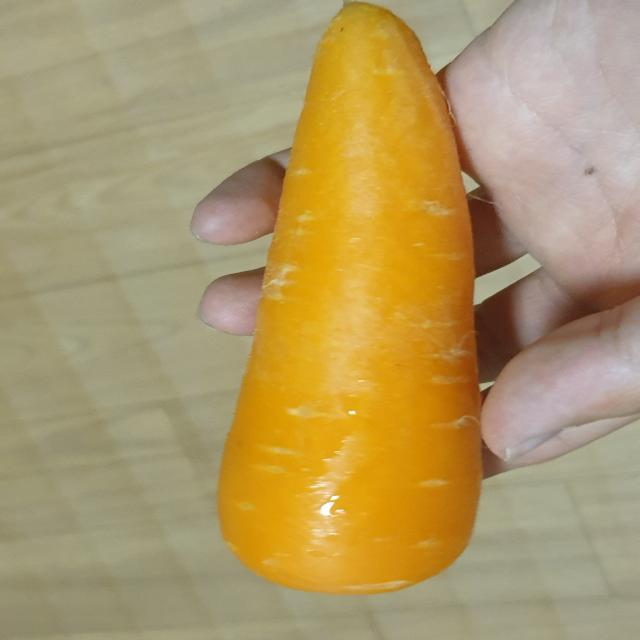Carrot: (202, 0, 492, 602)
